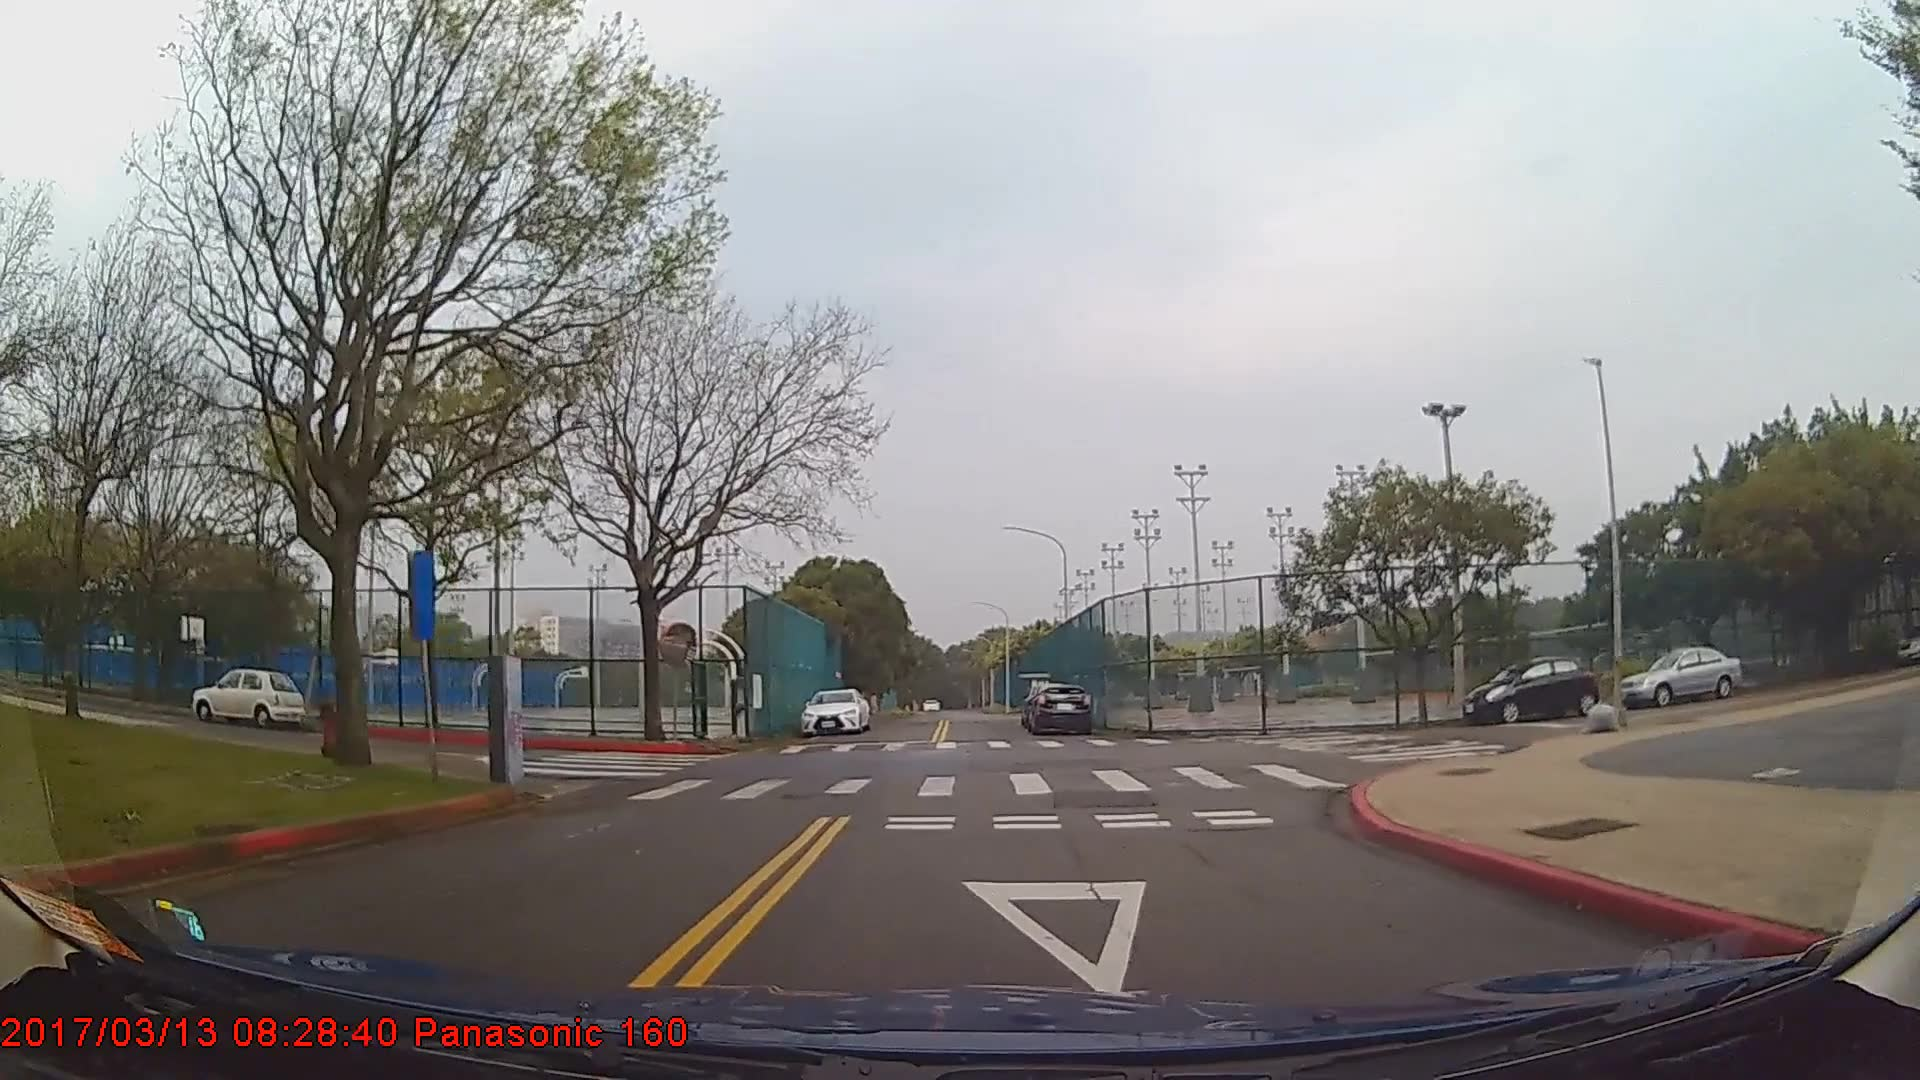vehicle: (1460, 654, 1596, 723), (1615, 644, 1746, 707), (189, 665, 305, 727), (1023, 680, 1091, 735), (799, 687, 868, 735)
